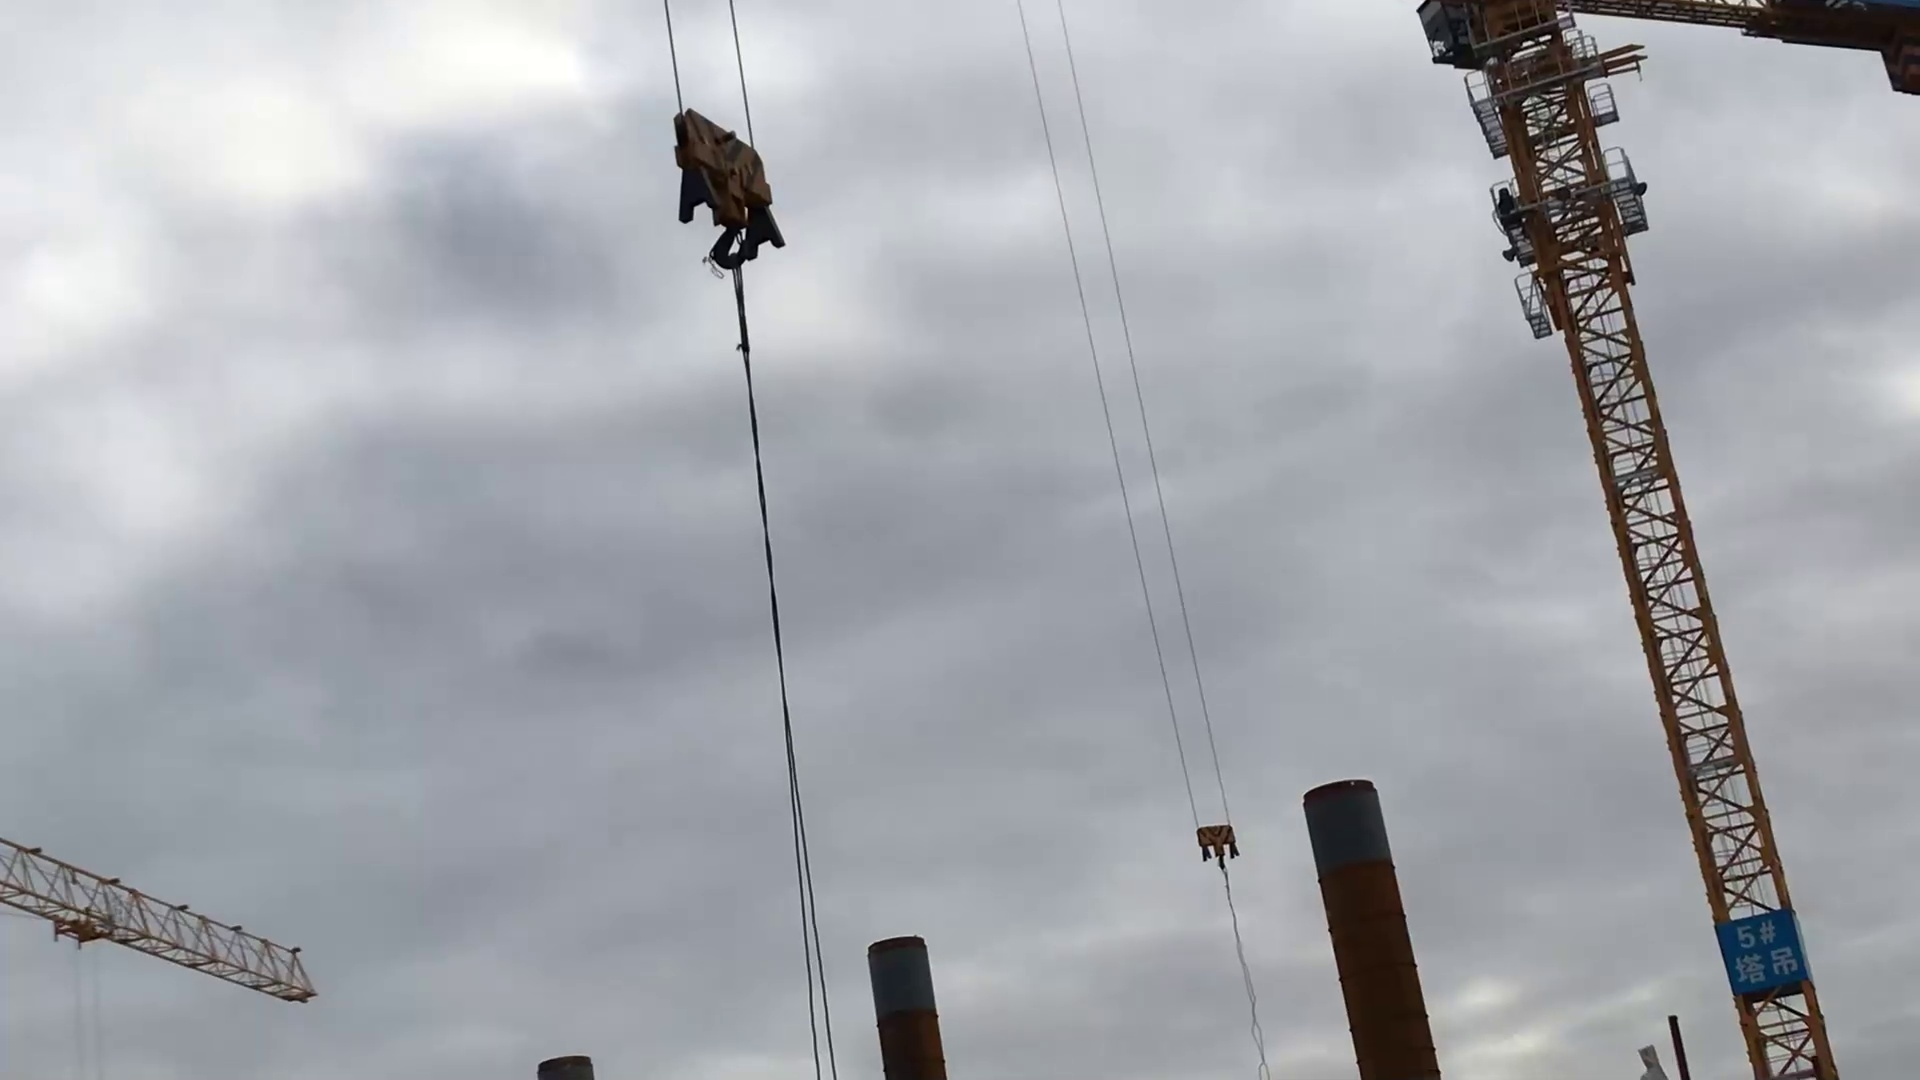hook: (679, 112, 781, 272), (1195, 823, 1244, 860)
